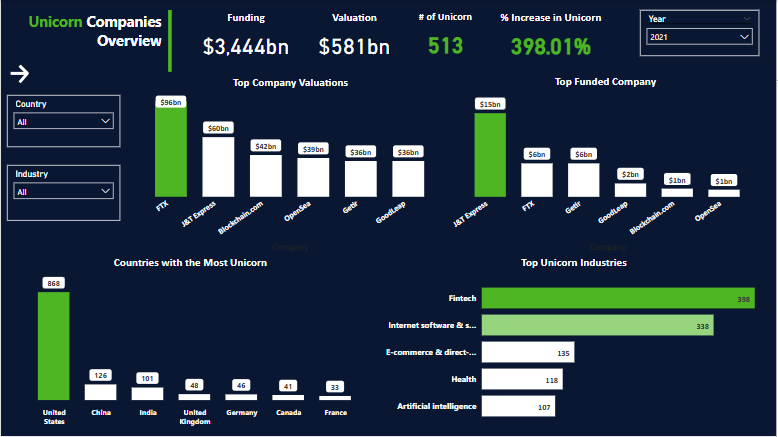

What the dashboard file says about the page in this screenshot:
{"tool":"powerbi","page":{"name":"companies","canvas":[1280,720],"ordinal":0},"visuals":[{"type":"card","title":"Valuation","fields":{"Values":["Sum(Table1. Funding $ )"]},"box":[498.8,16.5,170.1,89.2],"z":0},{"type":"card","title":"Funding","fields":{"Values":["Sum(Table1. Valuation $ )"]},"box":[310.5,16.5,188.3,89.2],"z":1000},{"type":"slicer","fields":{"Values":["Table1.Country"]},"box":[9.9,156.9,186.6,85.9],"z":2000},{"type":"textbox","box":[9.6,12.4,260.1,81.2],"z":3000},{"type":"slicer","fields":{"Values":["Table1.Industry"]},"box":[9.9,272.5,186.6,92.5],"z":4000},{"type":"slicer","fields":{"Values":["Table1.Date Joined.Variation.Date Hierarchy.Year"]},"box":[1055.4,16.5,196.5,76],"z":5000},{"type":"actionButton","box":[9.9,102.4,54.5,39.6],"z":6000},{"type":"card","title":"# of Unicorn ","fields":{"Values":["Count(Table1.Company)"]},"box":[668.9,16.5,130.5,89.2],"z":7000},{"type":"columnChart","title":" Top Company Valuations ","fields":{"Category":["Table1.Company"],"Y":["Sum(Table1. Valuation $ )"]},"box":[218,123.9,520.3,297.3],"z":8000},{"type":"clusteredBarChart","title":"Top Unicorn Industries","fields":{"Category":["Table1.Industry"],"Y":["CountNonNull(Table1.Company)"]},"box":[616.1,421.2,660.6,290.7],"z":9000},{"type":"clusteredColumnChart","title":"Countries with the Most Unicorn","fields":{"Category":["Table1.Country"],"Y":["CountNonNull(Table1.Company)"]},"box":[9.9,421.2,606.1,290.7],"z":10000},{"type":"clusteredColumnChart","title":" Top Funded Company ","fields":{"Y":["Sum(Table1. Funding $ )"],"Category":["Table1.Company"]},"box":[738.3,122.2,520.3,298.9],"z":11000},{"type":"card","title":"% Increase in Unicorn","fields":{"Values":["Table1.% Increase in Unicorns1"]},"box":[799.4,16.5,218,89.2],"z":12000},{"type":"shape","box":[247.7,16.5,62.8,102.4],"z":13000}]}

Visuals, with their boxes in screenshot pixels (x1, y1, x2, y2), scaled from the page's 1280x720 canvas onto the 778x437 screenshot:
"Valuation" card: (303, 10, 407, 64)
"Funding" card: (189, 10, 303, 64)
slicer - Table1.Country: (6, 95, 119, 147)
textbox: (6, 8, 164, 57)
slicer - Table1.Industry: (6, 165, 119, 222)
slicer - Table1.Date Joined.Variation.Date Hierarchy.Year: (641, 10, 761, 56)
actionButton: (6, 62, 39, 86)
"# of Unicorn " card: (407, 10, 486, 64)
" Top Company Valuations " columnChart: (133, 75, 449, 256)
"Top Unicorn Industries" clusteredBarChart: (374, 256, 776, 432)
"Countries with the Most Unicorn" clusteredColumnChart: (6, 256, 374, 432)
" Top Funded Company " clusteredColumnChart: (449, 74, 765, 256)
"% Increase in Unicorn" card: (486, 10, 618, 64)
shape: (151, 10, 189, 72)
